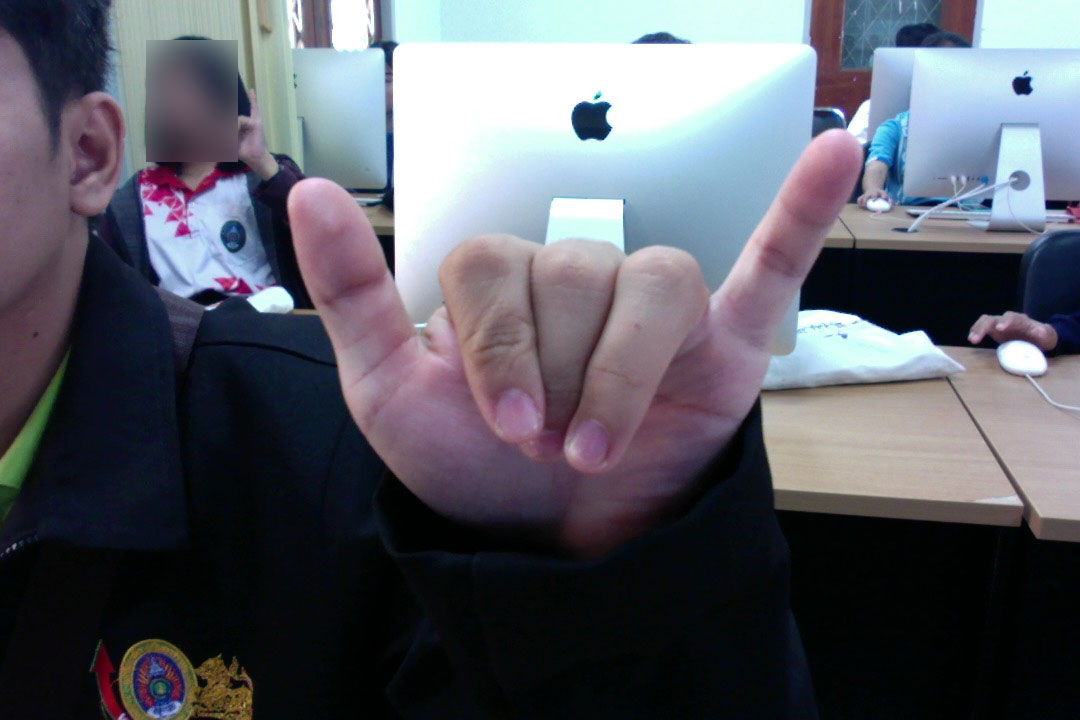yor: (255, 103, 876, 567)
